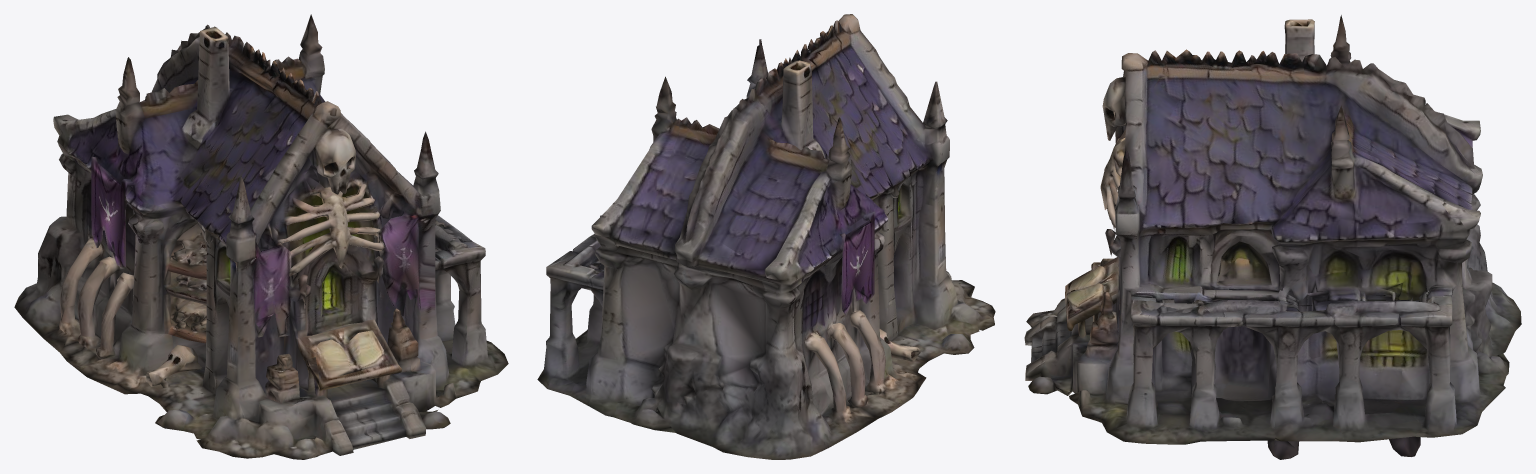
The model's file is h_hall.glb.
3 renders of one model, left to right at view 1: azimuth 30°, elevation 25°; view 2: azimuth 150°, elevation 25°; view 3: azimuth 270°, elevation 25°, orthographic. The views are drawn at different scales.
Visible parts, largest first — view 1: tripo_node_cb487bc5-d514-4fce-9f10-9509f393d089; view 2: tripo_node_cb487bc5-d514-4fce-9f10-9509f393d089; view 3: tripo_node_cb487bc5-d514-4fce-9f10-9509f393d089.
Part boxes in pixels (x1=…): tripo_node_cb487bc5-d514-4fce-9f10-9509f393d089: x1=14, y1=14, x2=508, y2=459; tripo_node_cb487bc5-d514-4fce-9f10-9509f393d089: x1=537, y1=14, x2=995, y2=459; tripo_node_cb487bc5-d514-4fce-9f10-9509f393d089: x1=1024, y1=15, x2=1521, y2=459.
Bounding box in the file's own units: 3.32 × 3.23 × 4.2.
1 material, 1 textured.
